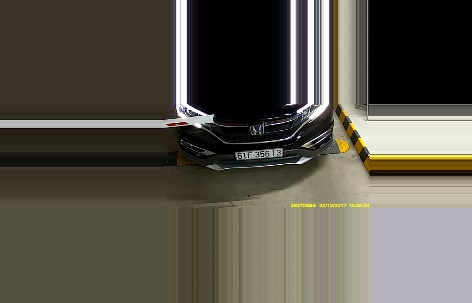plate: (232, 145, 289, 163)
